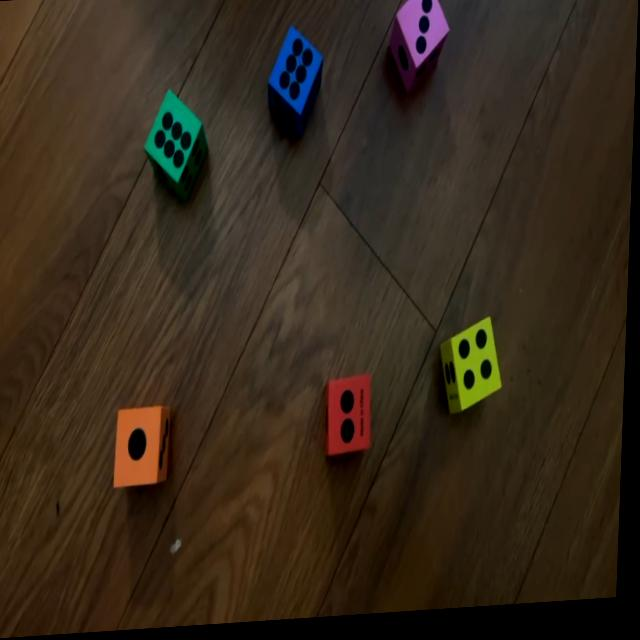blue_block: (267, 24, 326, 137)
red_block: (325, 378, 375, 465)
